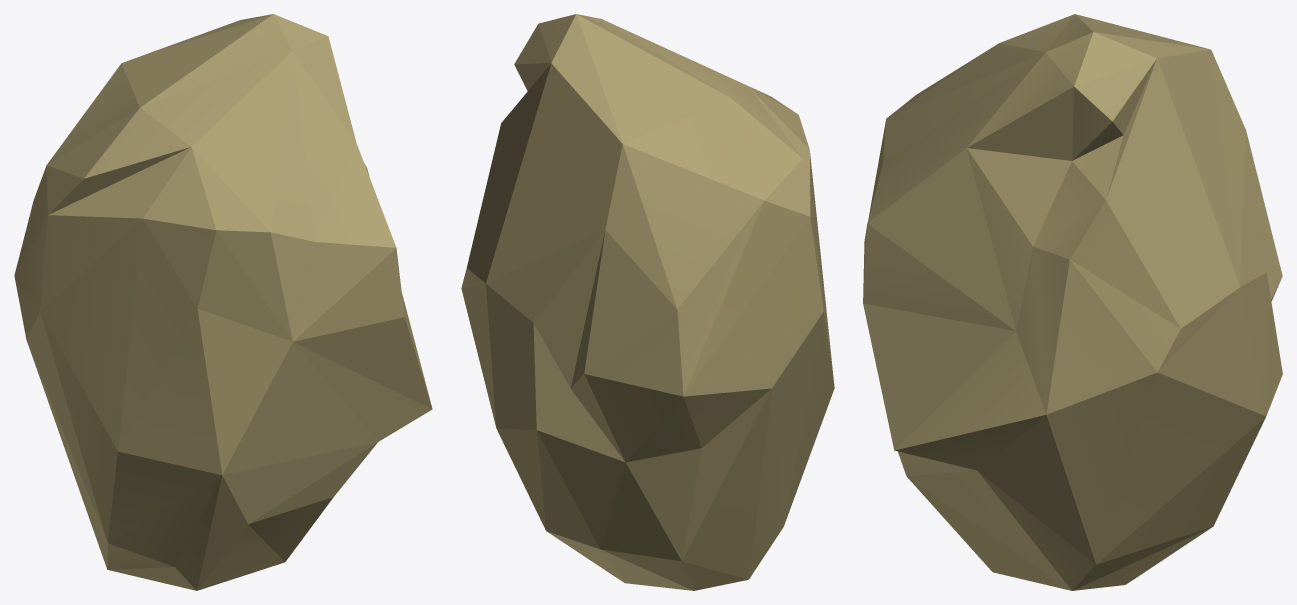
Rendered from SM_small_rock_10.fbx.
3 views of the same model, side by side, from view 1: azimuth 30°, elevation 25°; view 2: azimuth 150°, elevation 25°; view 3: azimuth 270°, elevation 25° (orthographic). The views are drawn at different scales.
Parts seen in each view (by area): view 1: small_rock_10; view 2: small_rock_10; view 3: small_rock_10.
Part boxes in pixels (box(x1,y1,x2,y2)): small_rock_10: box(14, 14, 432, 590); small_rock_10: box(461, 14, 834, 590); small_rock_10: box(863, 14, 1282, 590).
Size of the model in its own units: 73.44 by 108 by 69.94.
